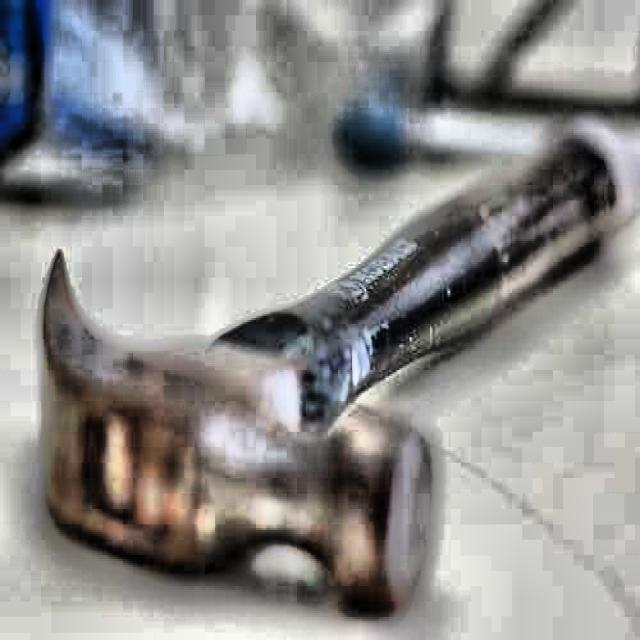hammer: (38, 126, 630, 609)
